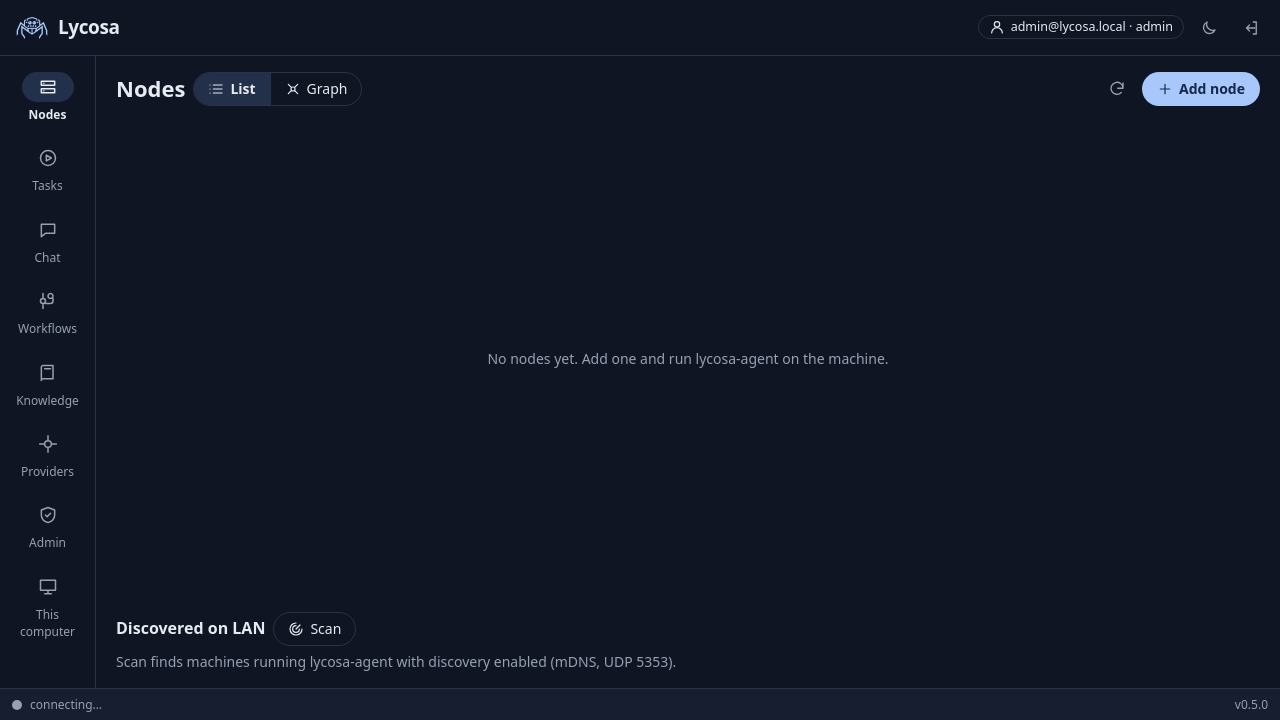
Test: shell › adds a controller from the account menu
The image size is (1280, 720).
Click the button titled "Account and controllers".
click(1081, 27)  # box top-left (978, 15), bottom-right (1184, 39)
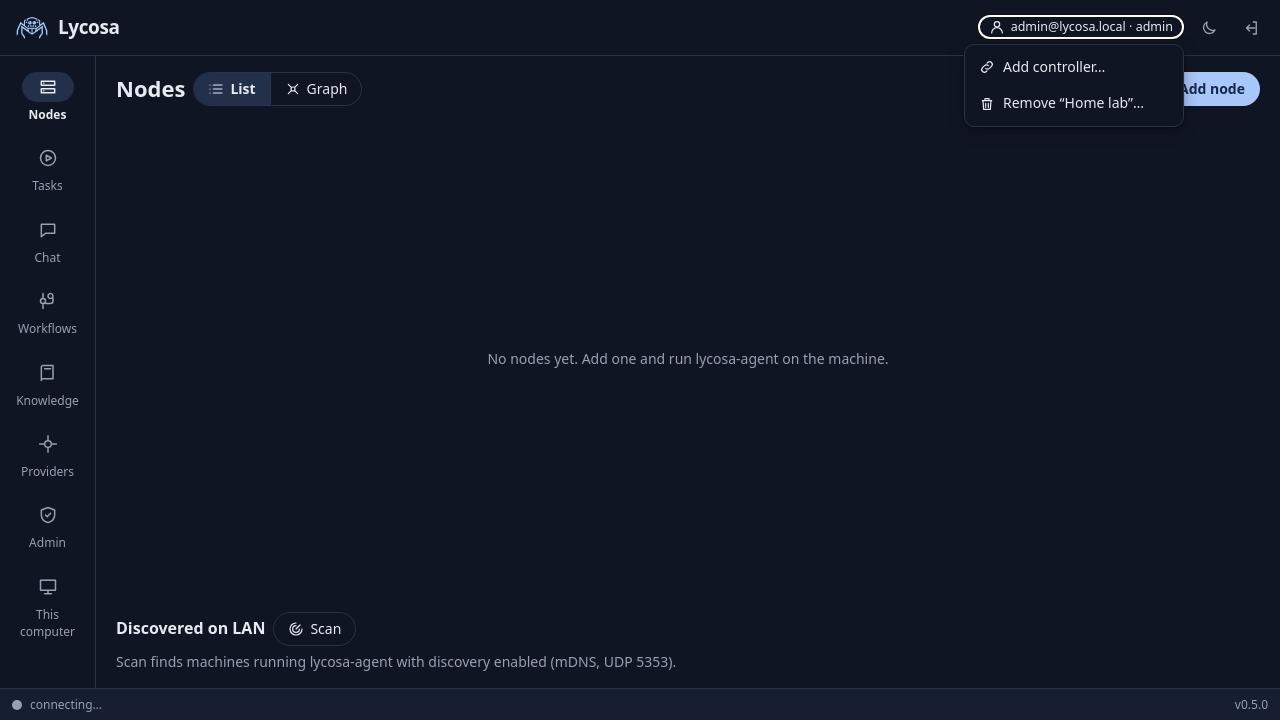
Click the menu item "Add controller…".
click(1074, 67)  # box top-left (969, 49), bottom-right (1179, 86)
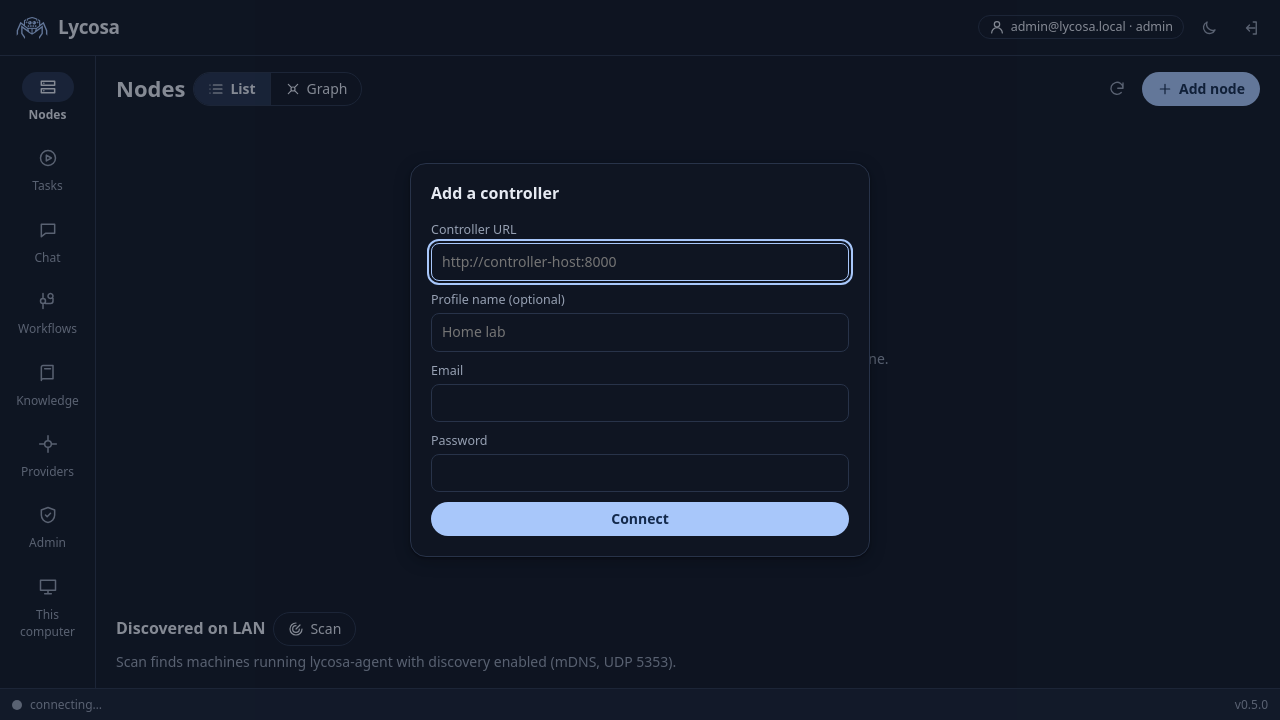
Result: the dialog "Add a controller" is shown at top-left (410, 163), bottom-right (870, 558)
Result: the field labelled "Controller URL" is empty at top-left (431, 243), bottom-right (849, 281)
